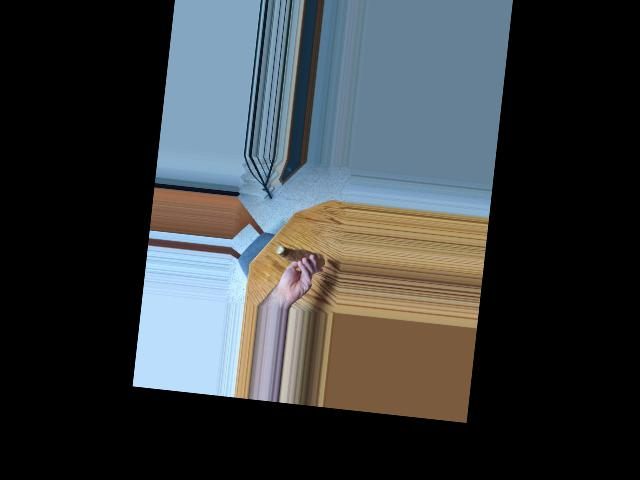sweet_potato: (271, 245, 326, 266)
